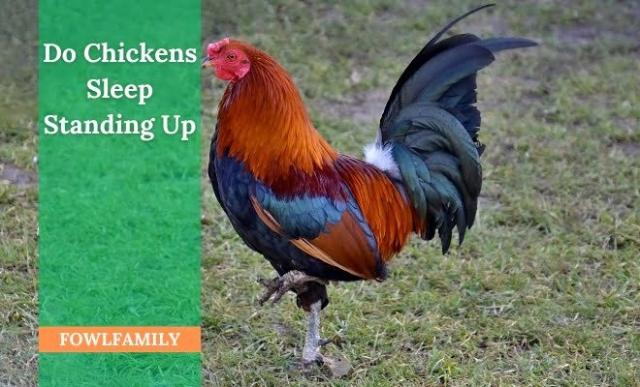Chicken: (203, 3, 538, 364)
